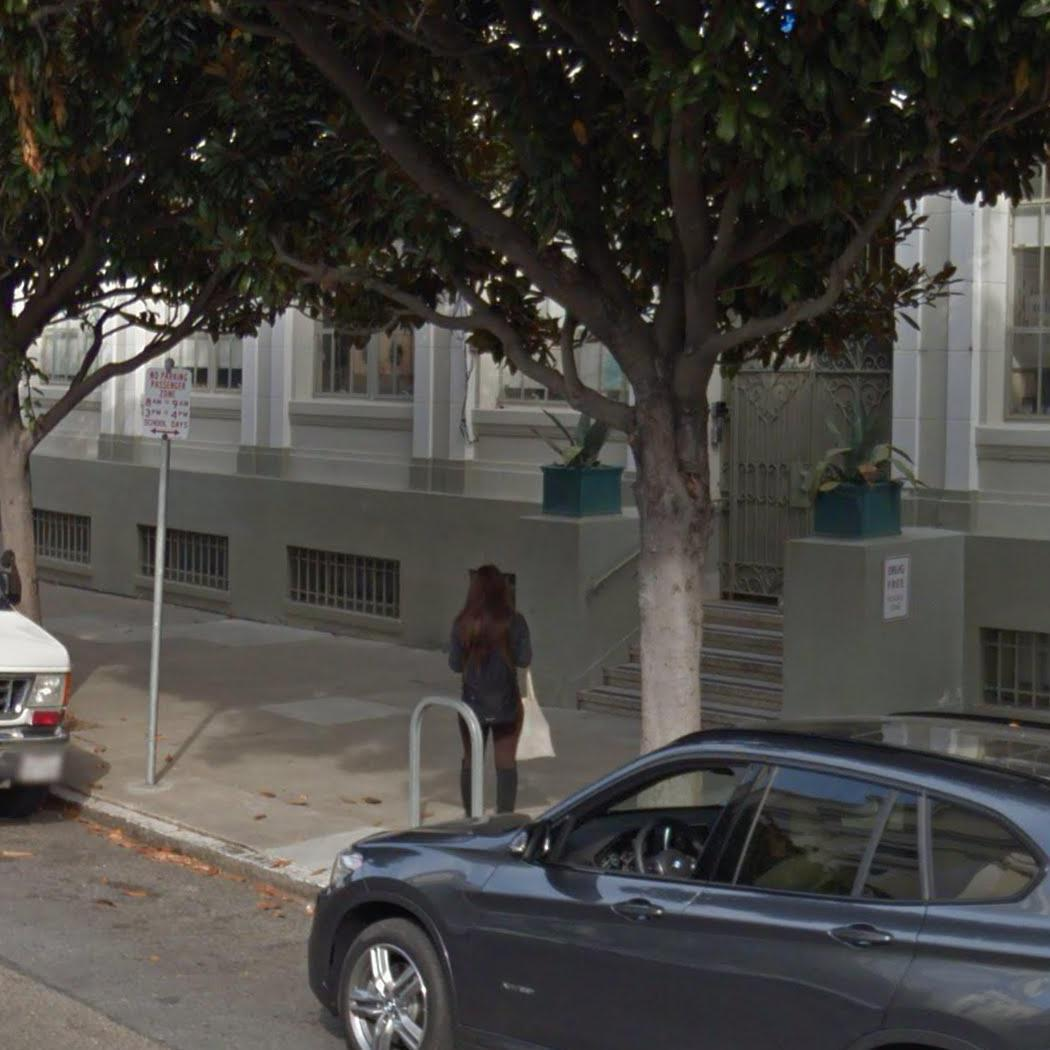No Parking: (139, 362, 194, 446)
